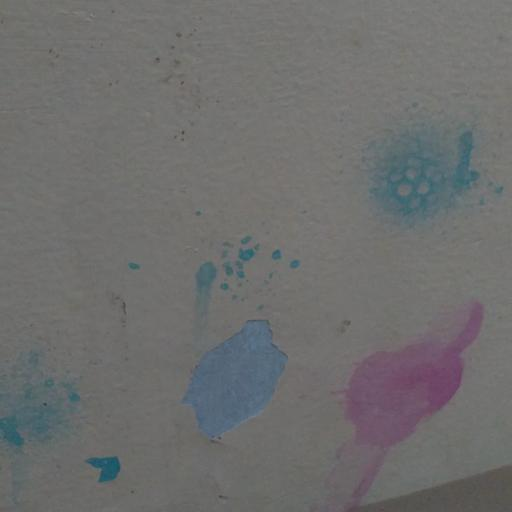stain: (335, 294, 512, 511), (0, 342, 143, 506), (115, 237, 333, 328), (345, 113, 506, 234)
